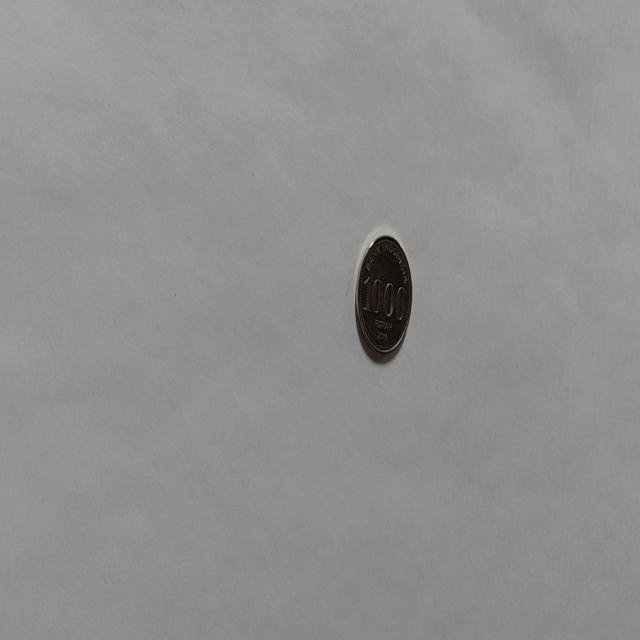seribu rupiah koin: (353, 230, 413, 363)
